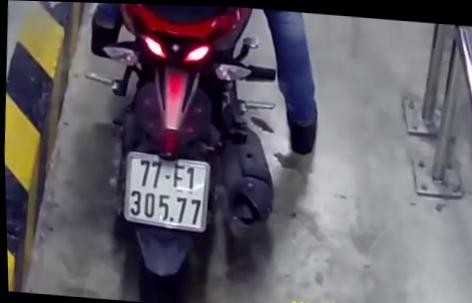LP: (120, 149, 210, 231)
